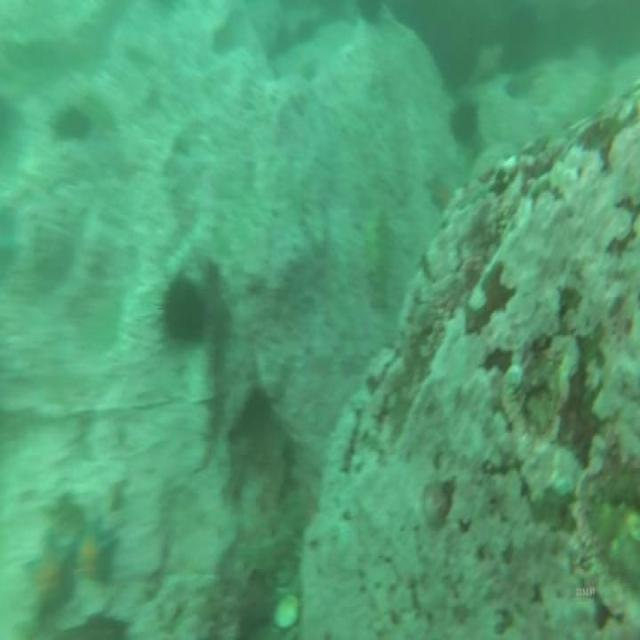echinus: (166, 278, 206, 341), (51, 108, 88, 139), (451, 100, 477, 142)
holothurian: (233, 528, 297, 580), (366, 198, 391, 306)
starfish: (24, 545, 73, 605), (78, 520, 116, 583), (424, 171, 450, 204)
